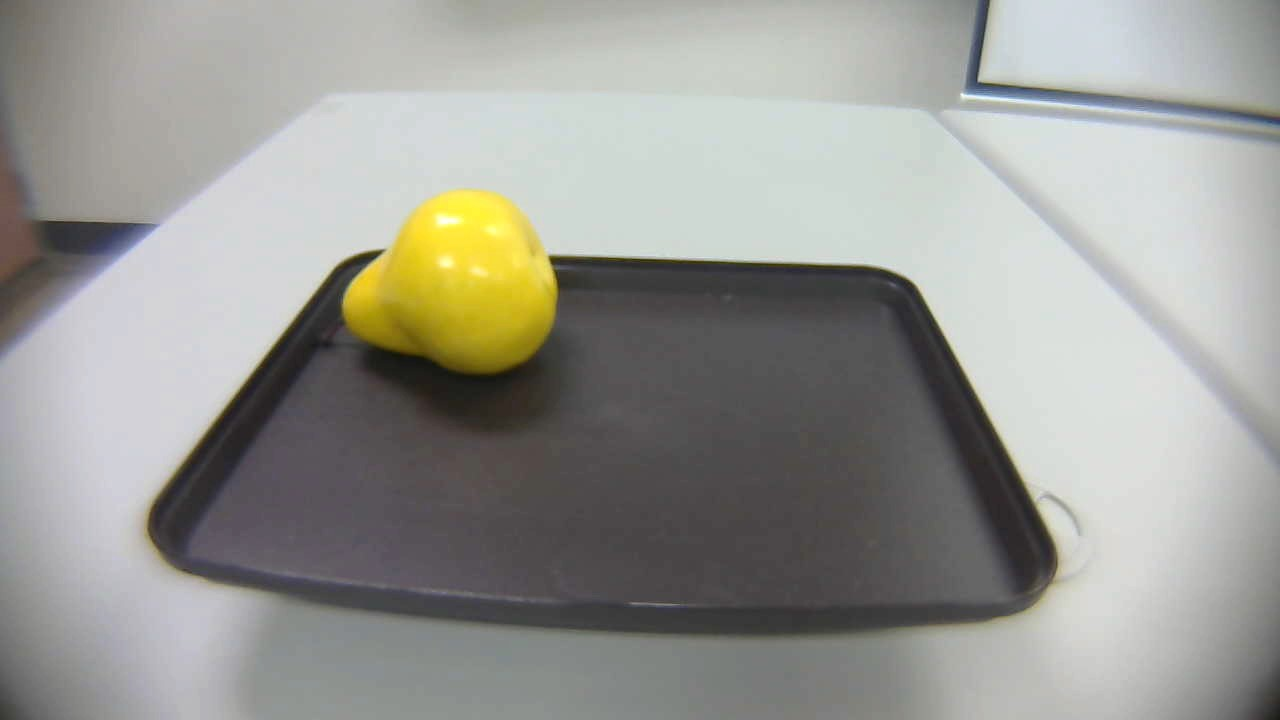yellow pear: (312, 182, 572, 385)
